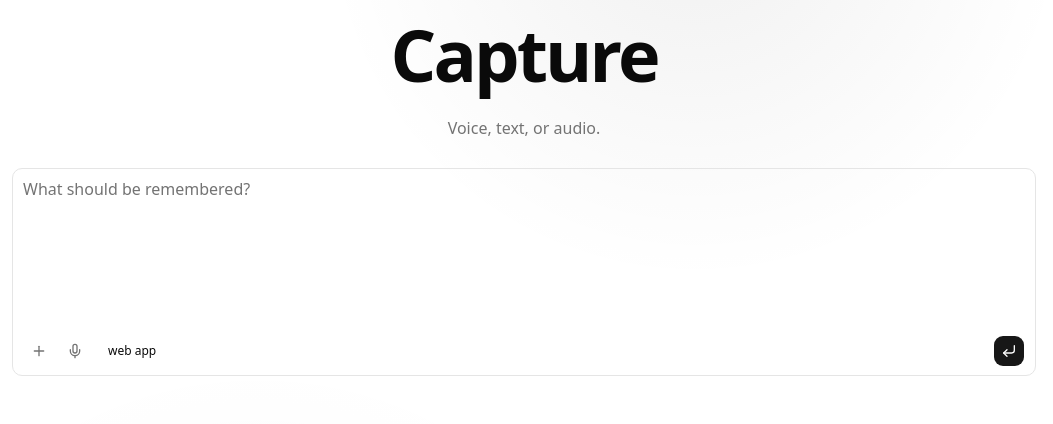
Test: CaptureComposerCard › shows an inline validation error only after an invalid submit
Check: the text "Enter some text to start a capture session." is not shown
Click the button named "Submit" at [1009, 351], box [993,335,1025,367]
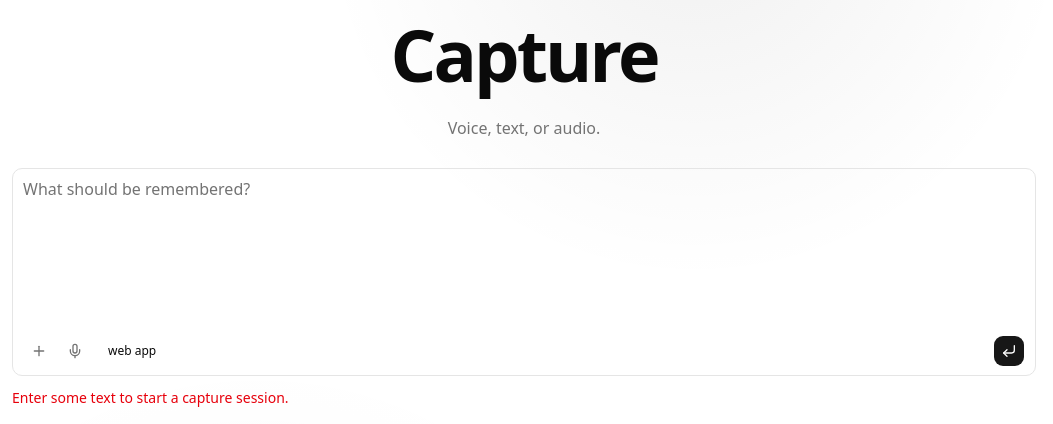
Check: the text "Enter some text to start a capture session." is shown, box [12,388,289,407]
